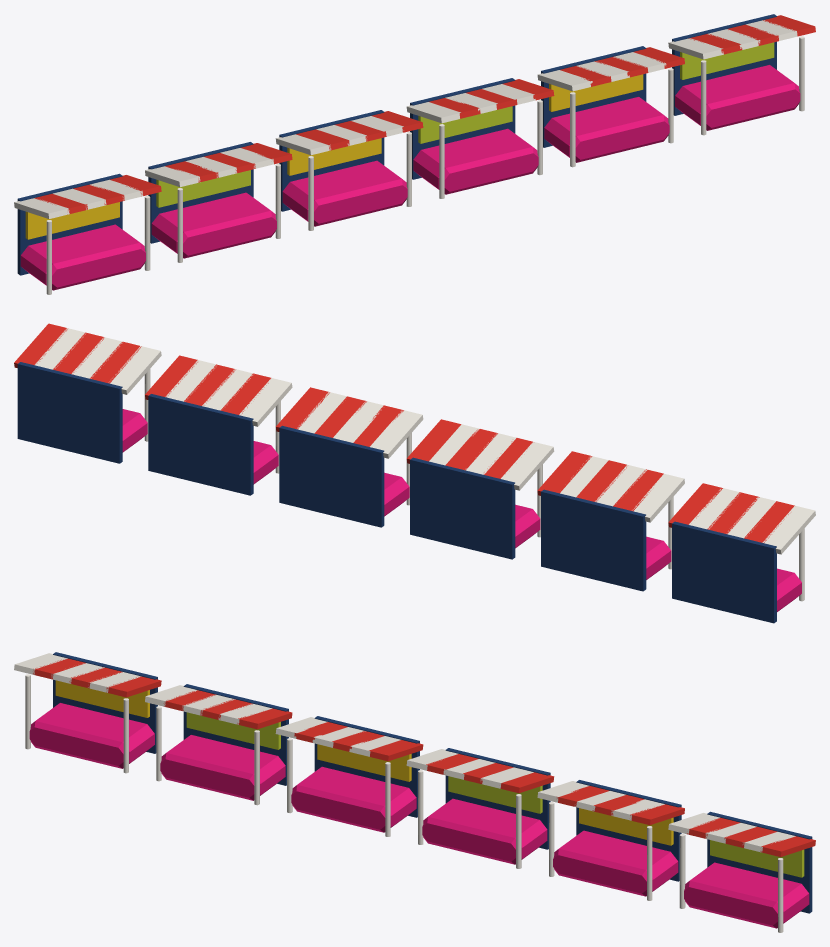
File: carnival-games.glb
The picture shows the model from 3 angles, top to bottom: view 1: azimuth 30°, elevation 25°; view 2: azimuth 150°, elevation 25°; view 3: azimuth 330°, elevation 25°; orthographic projection.
Parts seen in each view (by area): view 1: booth_counter_3, booth_counter_1, booth_counter_4, booth_counter_2, booth_counter_0, booth_counter_5, booth_back_0, booth_prize_0, booth_prize_3, booth_prize_1, booth_prize_2, booth_prize_4 (+24 smaller); view 2: booth_back_4, booth_back_3, booth_back_2, booth_back_5, booth_back_1, booth_back_0, booth_awning_2_0, booth_awning_4_0, booth_awning_3_0, booth_awning_0_0, booth_awning_1_0, booth_awning_5_0 (+36 smaller); view 3: booth_counter_2, booth_counter_1, booth_counter_4, booth_counter_3, booth_counter_5, booth_counter_0, booth_back_5, booth_prize_5, booth_prize_2, booth_prize_4, booth_prize_3, booth_prize_1 (+30 smaller).
Boxes of the visible parts, x1,y1,x2,y2 form: booth_counter_3: (413, 128, 538, 194); booth_counter_1: (151, 192, 276, 258); booth_counter_4: (544, 97, 669, 162); booth_counter_2: (282, 160, 407, 226); booth_counter_0: (20, 224, 145, 290); booth_counter_5: (675, 65, 800, 130); booth_back_0: (17, 173, 122, 275); booth_prize_0: (25, 202, 119, 239); booth_prize_3: (418, 106, 512, 143); booth_prize_1: (156, 170, 250, 207); booth_prize_2: (287, 138, 381, 175); booth_prize_4: (549, 74, 643, 111); booth_back_4: (148, 394, 253, 495); booth_back_3: (279, 425, 384, 527); booth_back_2: (410, 457, 515, 559); booth_back_5: (17, 362, 122, 463); booth_back_1: (541, 489, 646, 591); booth_back_0: (672, 521, 776, 623); booth_awning_2_0: (501, 441, 554, 490); booth_awning_4_0: (239, 378, 292, 426); booth_awning_3_0: (370, 410, 423, 458); booth_awning_0_0: (762, 505, 815, 554); booth_awning_1_0: (632, 473, 684, 522); booth_awning_5_0: (108, 346, 161, 394); booth_counter_2: (291, 766, 416, 832); booth_counter_1: (160, 735, 285, 800); booth_counter_4: (553, 830, 678, 896); booth_counter_3: (422, 798, 547, 864); booth_counter_5: (684, 862, 809, 928); booth_counter_0: (29, 703, 154, 768); booth_back_5: (707, 811, 812, 913); booth_prize_5: (710, 840, 804, 877); booth_prize_2: (317, 744, 411, 781); booth_prize_4: (579, 808, 673, 845); booth_prize_3: (448, 776, 542, 813); booth_prize_1: (186, 712, 280, 749).
Size of the model in its own units: 37.5 by 4.1 by 3.12.
